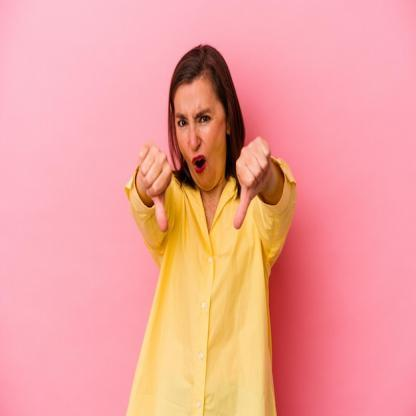thumb_down: (232, 132, 272, 232), (136, 135, 174, 235)
